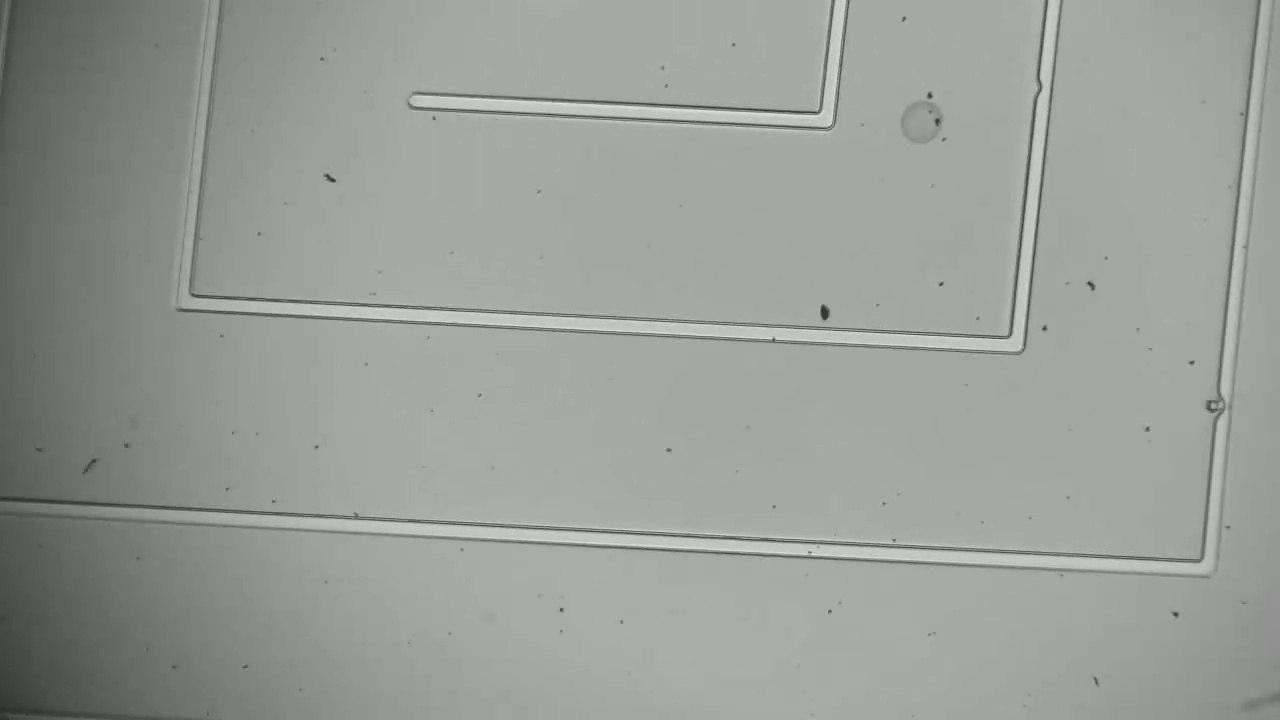edge_bite: (1196, 382, 1238, 426), (1025, 70, 1064, 111)
